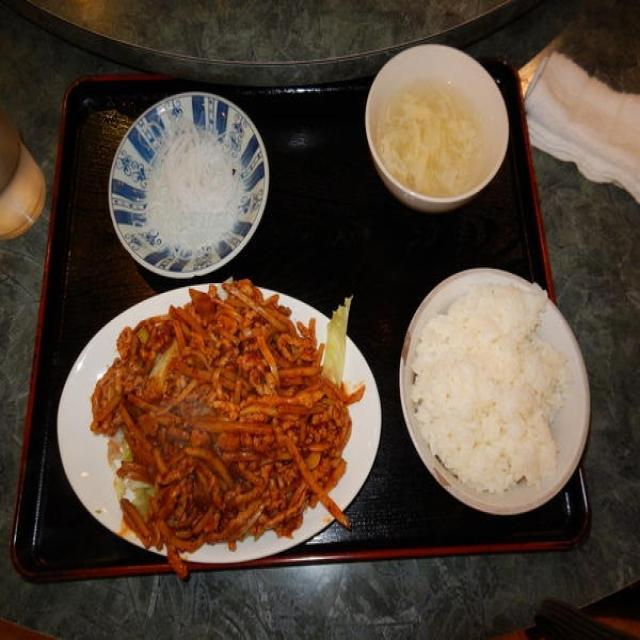Rice: (414, 286, 579, 489)
